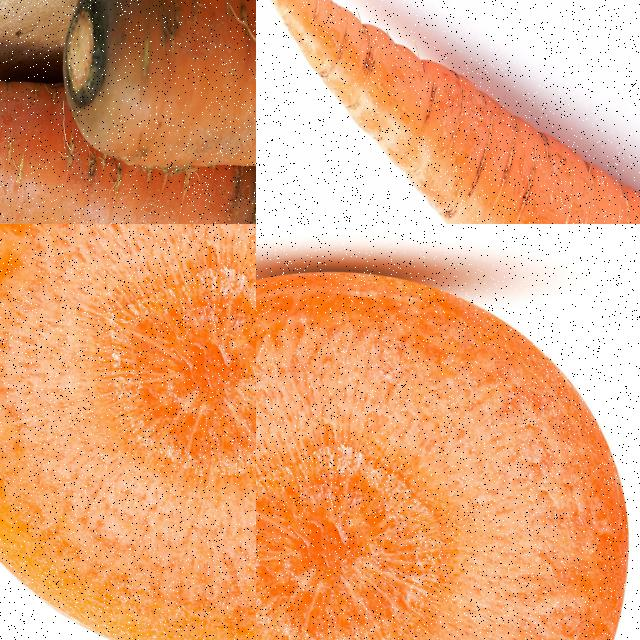carrot: (256, 225, 639, 639), (0, 224, 255, 639), (256, 0, 639, 223), (0, 68, 255, 223), (67, 0, 255, 170)
